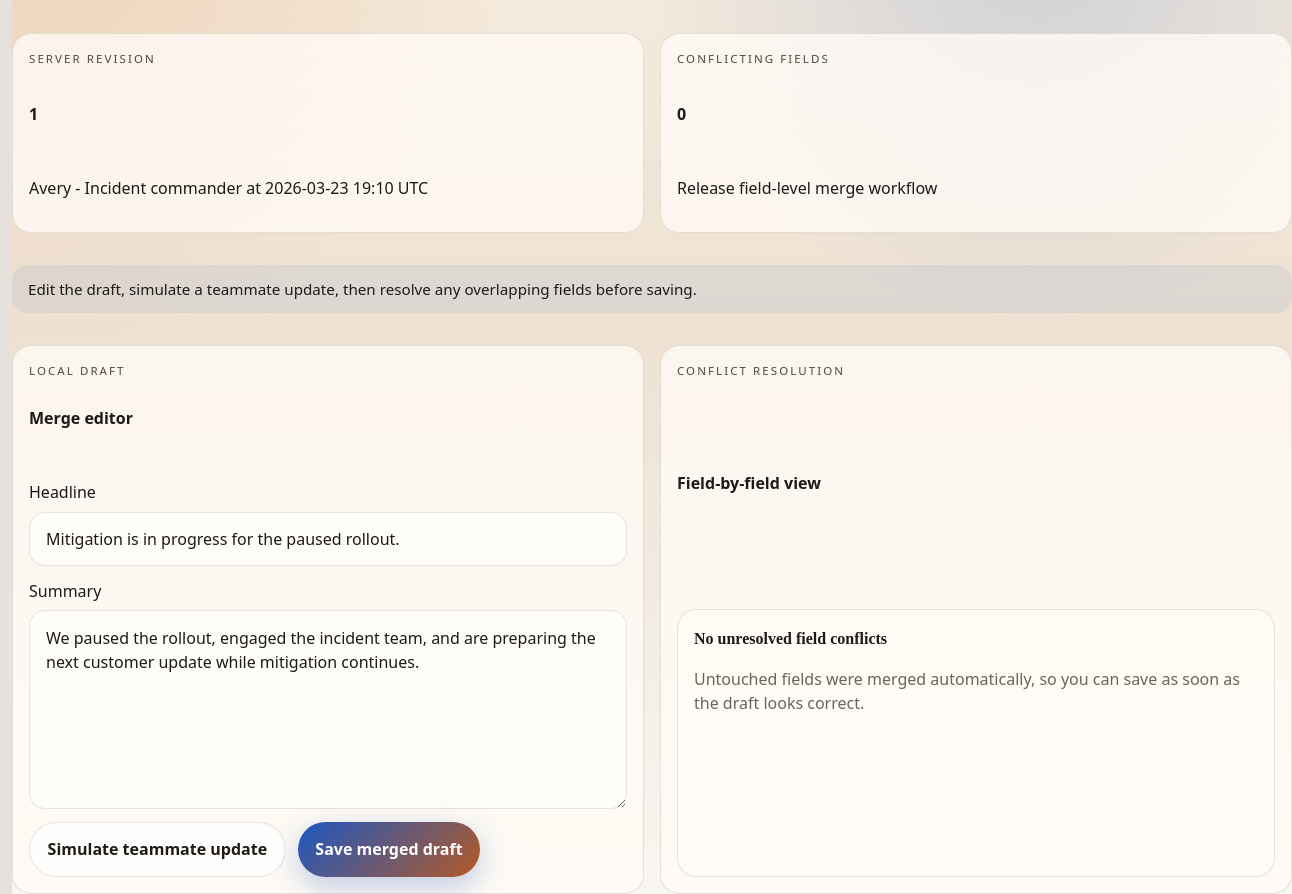
Test: release field-level merge resolution › auto-merges untouched fields and leaves overlapping fields for resolution
(page scrolled)
Replace the text in the text box named "Summary draft" with "We paused the rollout, engaged the incident team, and I am drafting the next customer update while mitigation continues.": (328, 710) [29,610,627,809]
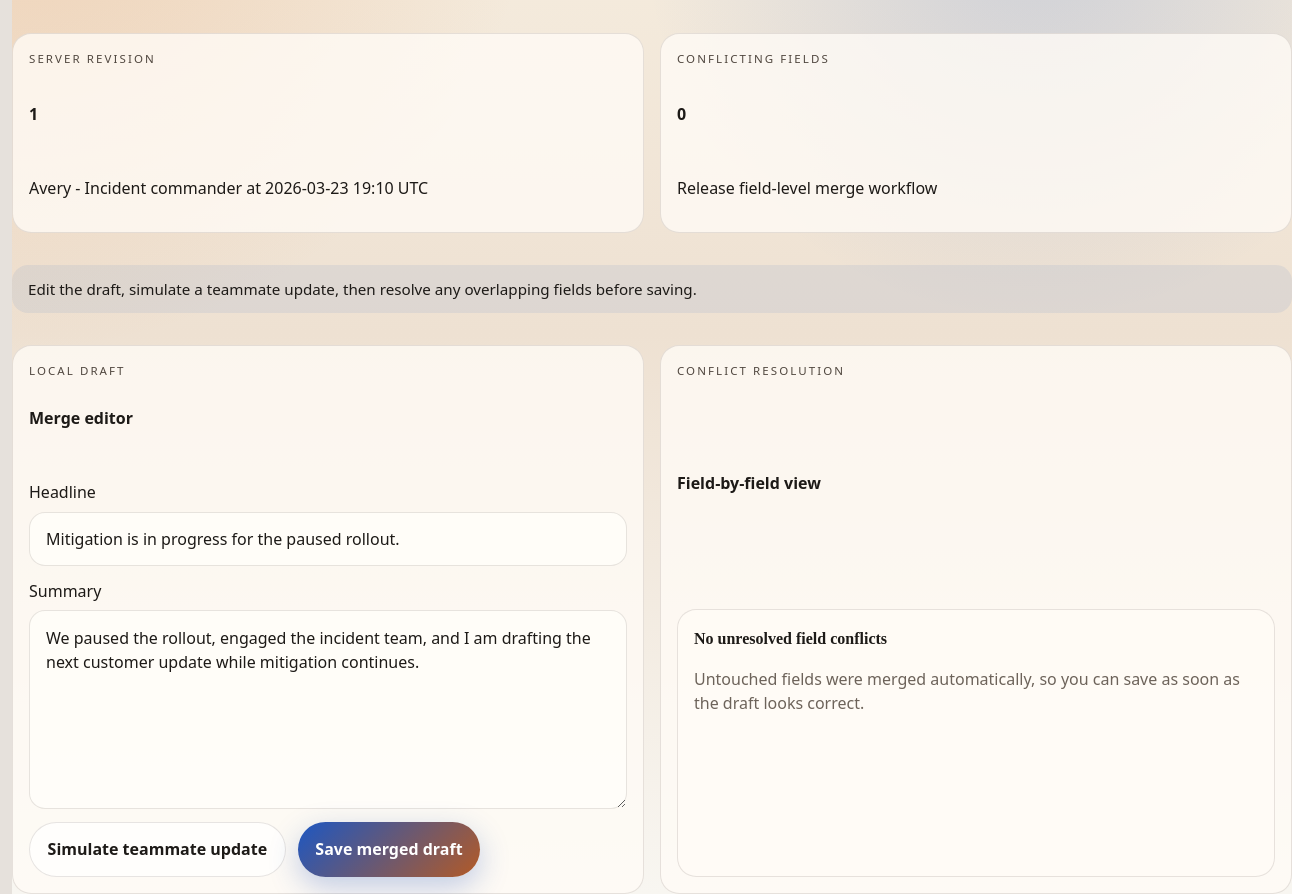
Click the button "Simulate teammate update": (157, 849) [29,822,286,877]
Wait 180 ms
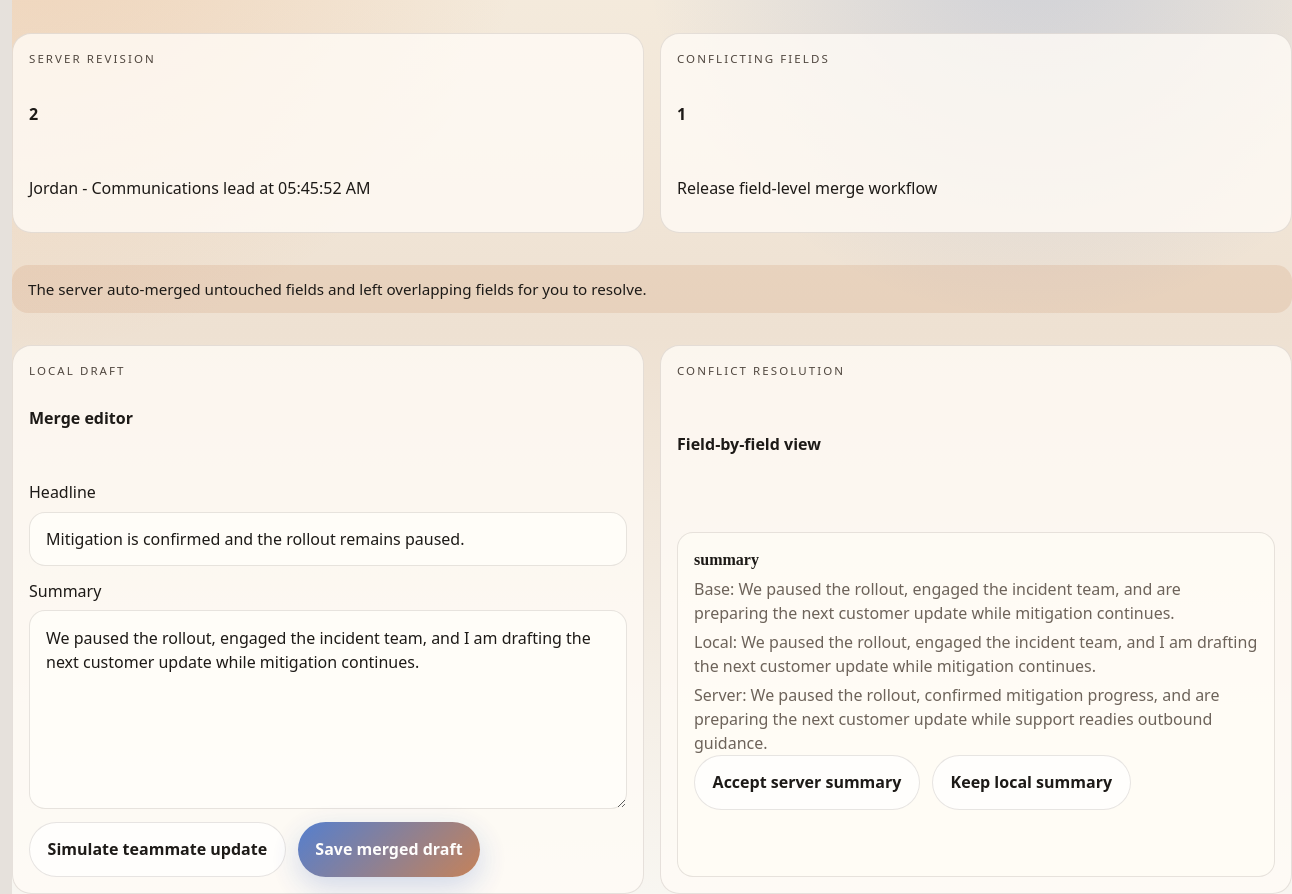
expect the field showing "Mitigation is confirmed and the rollout remains paused." is shown: met, box [29,512,627,566]
expect the text "summary" is shown: met, box [694,551,759,568]
